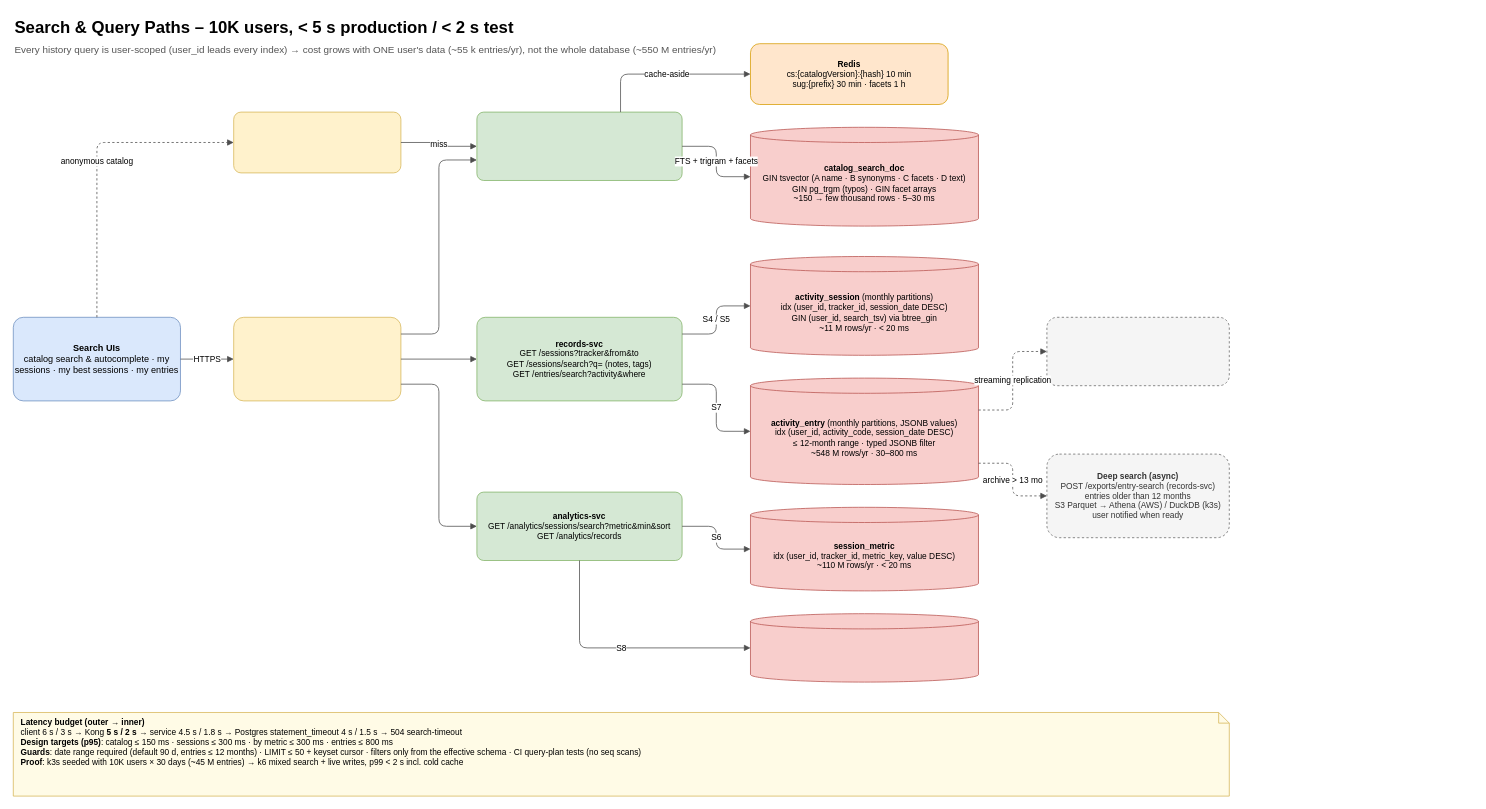
Some shapes in this 1486 by 809 pixel diagram are drawn without their labels. Each missing label, with the box of its shape:
catalog-svc GET /catalog/search · /suggest · /facets deadline 4.5 s / 1.8 s: (476, 111, 682, 180)
CDN / Kong proxy-cache public catalog GETs max-age 300 s: (233, 111, 401, 173)
Kong API Gateway route timeout 5 s prod / 2 s test rate limits per user: (233, 317, 401, 401)
personal_record · metric_rollup PK lookups · < 10 ms: (750, 613, 978, 682)
Read replica (optional) route /search here when > 20 req/s or p95 > 500 ms: (1046, 317, 1229, 386)
